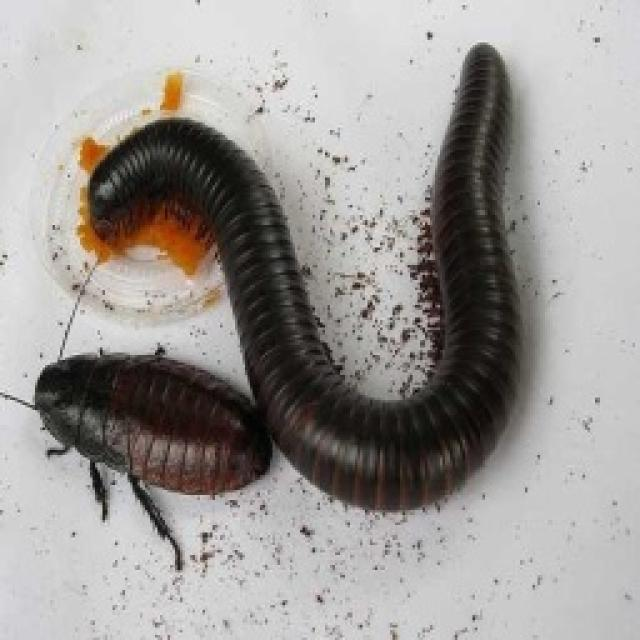cockroach: (27, 302, 288, 571)
